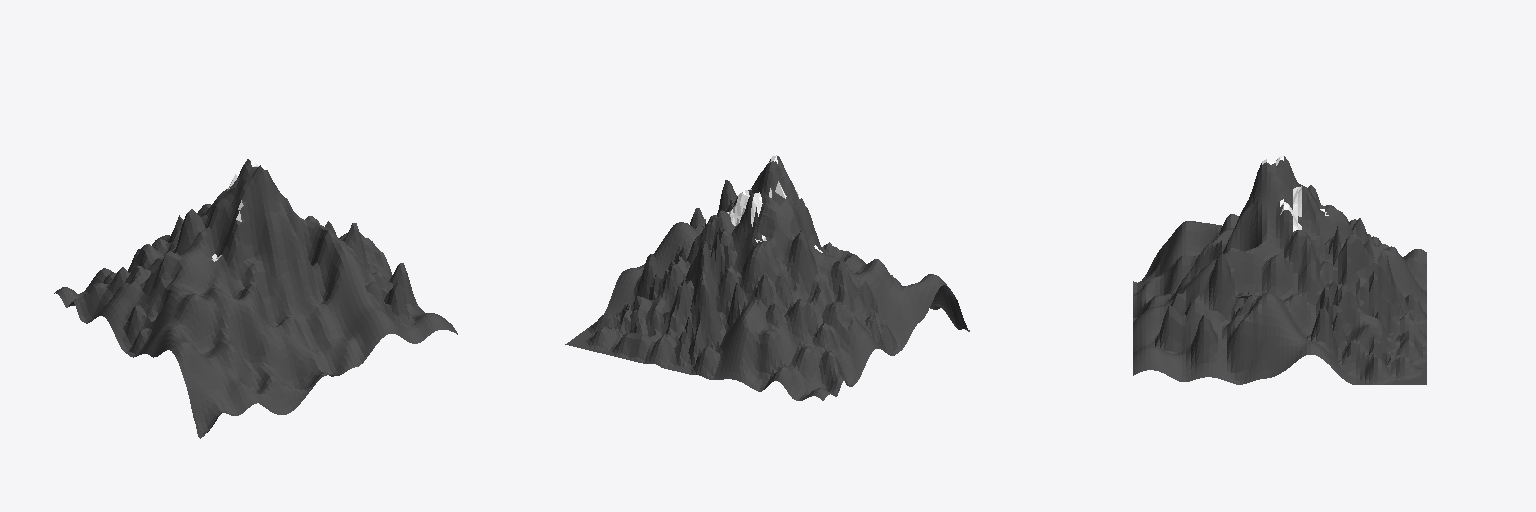
Rendered from Mountain.obj.
3 renders of one model, left to right at view 1: azimuth 30°, elevation 25°; view 2: azimuth 150°, elevation 25°; view 3: azimuth 270°, elevation 25°, orthographic.
Visible parts, largest first — view 1: RAD_FRAME; view 2: RAD_FRAME; view 3: RAD_FRAME.
Part boxes in pixels (left/top/right/bottom): RAD_FRAME: left=54, top=159, right=457, bottom=438; RAD_FRAME: left=565, top=155, right=969, bottom=400; RAD_FRAME: left=1133, top=156, right=1426, bottom=384.
Size of the model in its own units: 216 by 155 by 212.